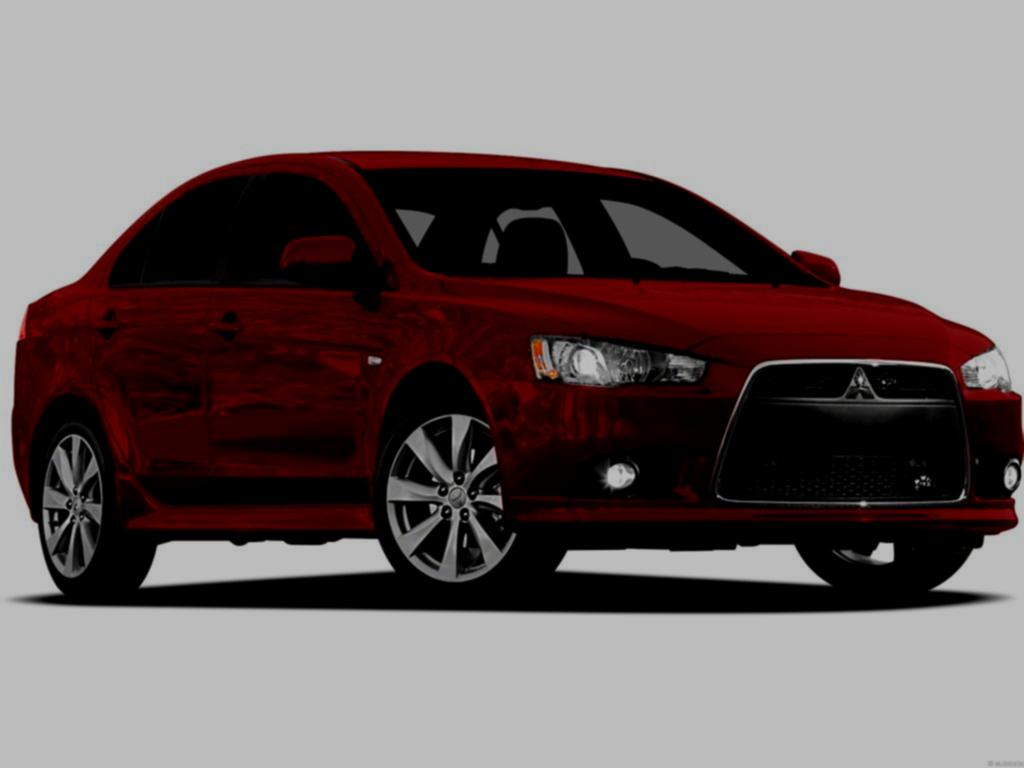Mitsubishi: (836, 364, 901, 409)
